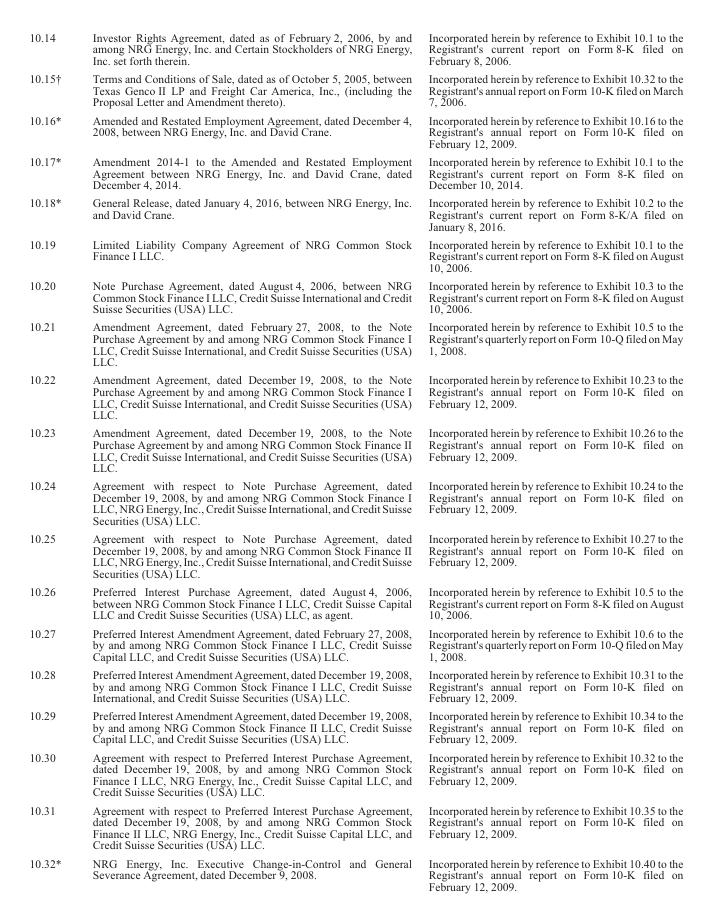table: (28, 29, 682, 893)
table column: (76, 29, 419, 893), (419, 29, 682, 893), (28, 29, 76, 893)
table column header: (28, 29, 682, 69)
table row: (28, 317, 682, 370), (28, 370, 682, 423), (28, 423, 682, 476), (28, 476, 682, 529), (28, 529, 682, 582), (28, 747, 682, 800), (28, 800, 682, 853), (28, 151, 682, 193), (28, 275, 682, 317), (28, 664, 682, 706), (28, 69, 682, 110), (28, 110, 682, 151), (28, 193, 682, 234), (28, 234, 682, 275), (28, 582, 682, 623), (28, 623, 682, 664), (28, 706, 682, 747), (28, 29, 682, 69), (28, 853, 682, 893)
